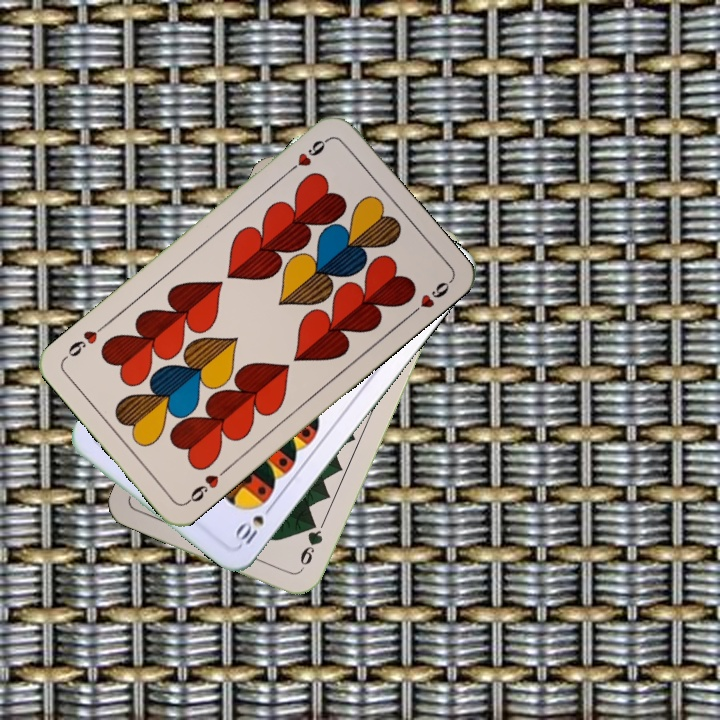G9: (295, 516, 327, 575)
H9: (182, 464, 231, 507), (283, 134, 332, 177)
S10: (230, 499, 277, 549)
